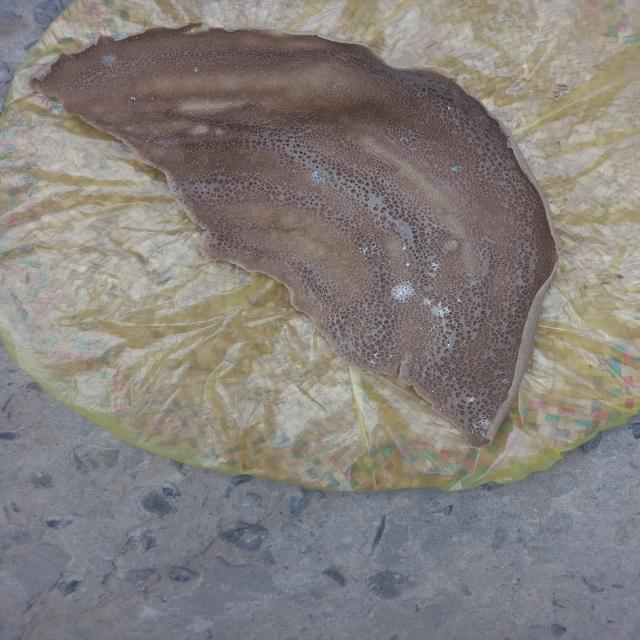injera_mold: (418, 321, 464, 349), (422, 296, 452, 318), (390, 279, 416, 303), (472, 412, 493, 441), (356, 242, 382, 258), (361, 351, 384, 367), (100, 54, 118, 68), (427, 259, 440, 274), (310, 170, 326, 182), (452, 164, 464, 174), (398, 134, 408, 144), (467, 278, 477, 288), (468, 394, 477, 402), (404, 260, 412, 268), (400, 244, 406, 251)
